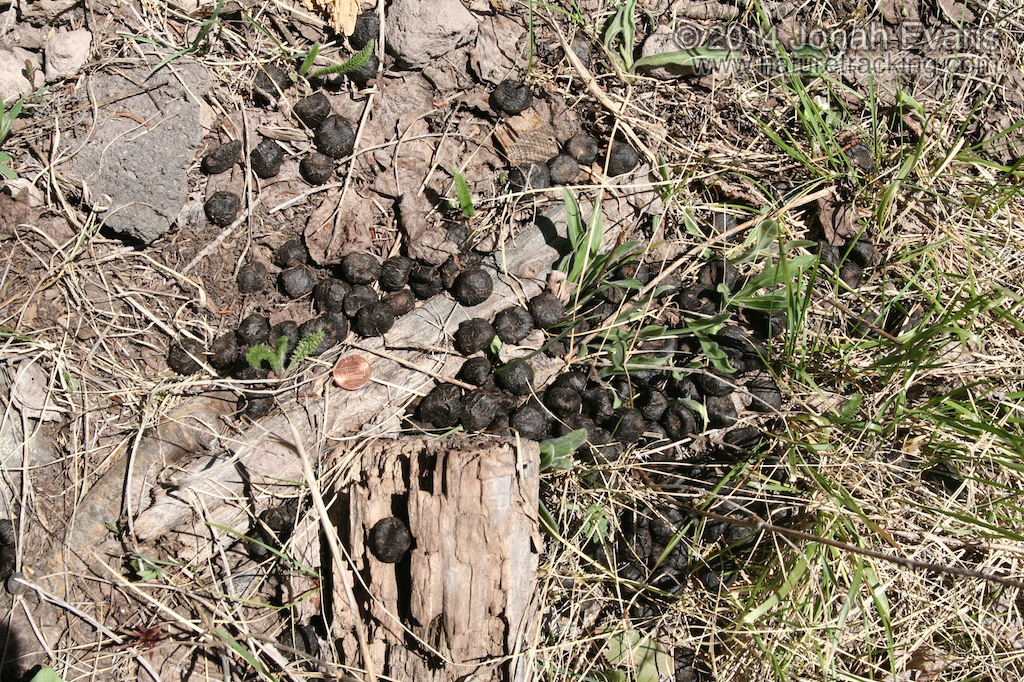Elk: (184, 136, 750, 568)
